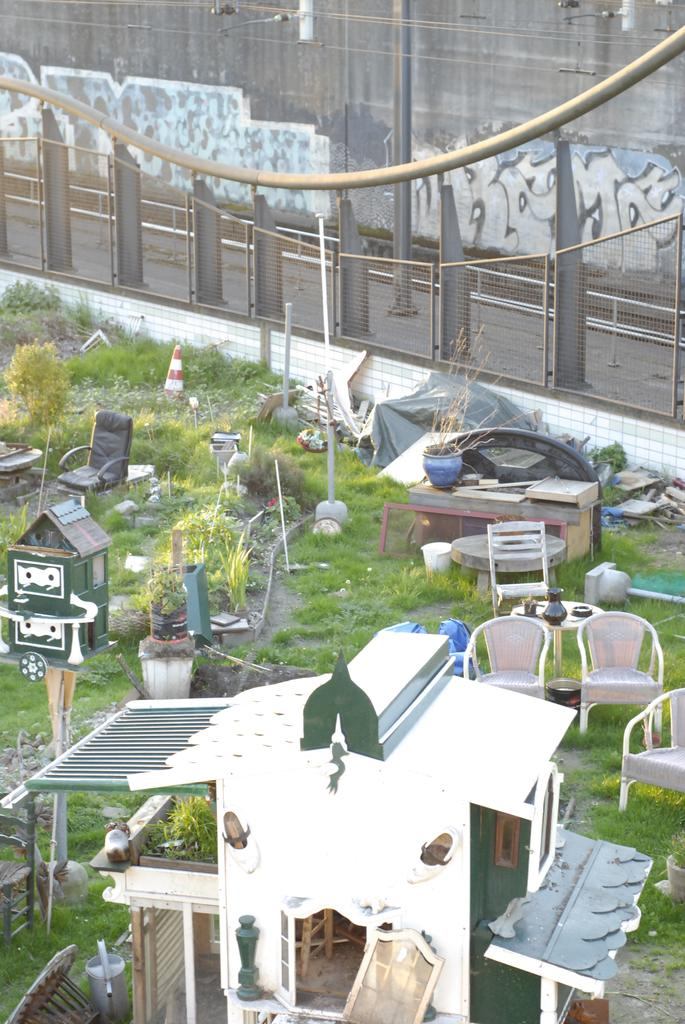Chair: (560, 593, 647, 738), (56, 404, 132, 528), (469, 607, 560, 705), (613, 686, 684, 808), (482, 521, 558, 619)
